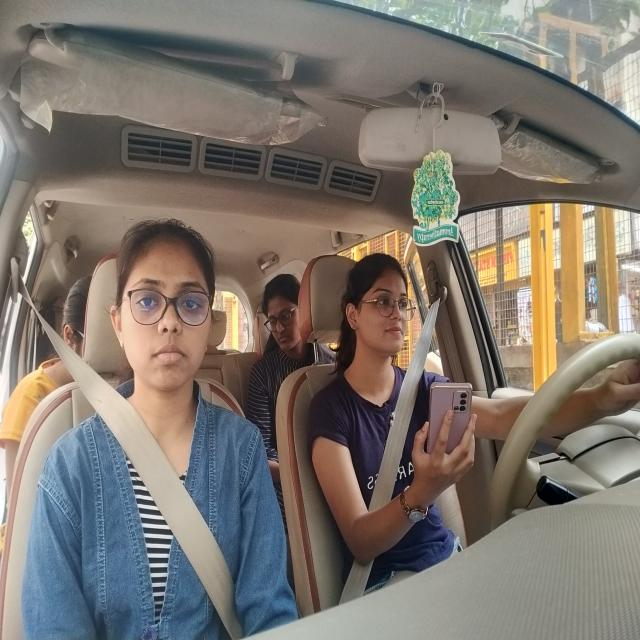mobile: (428, 372, 476, 465)
person: (109, 218, 218, 400), (345, 250, 416, 365), (258, 269, 303, 359)
